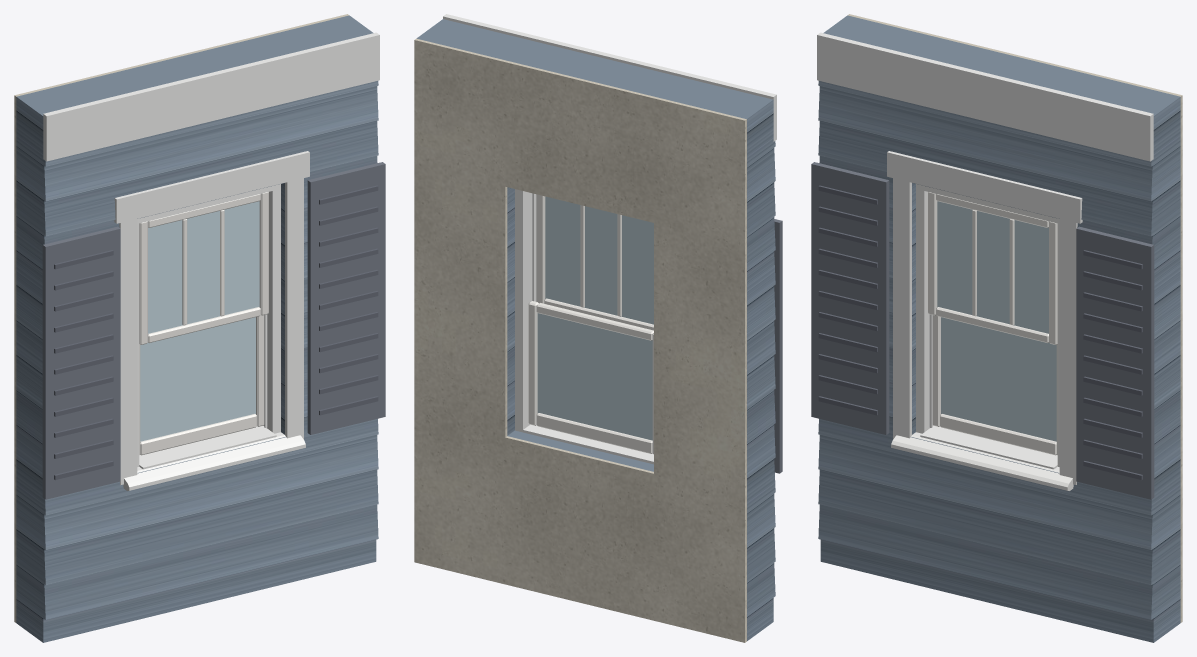
File: wall_siding_upper_window.glb
3 views of the same model, side by side, from view 1: azimuth 30°, elevation 25°; view 2: azimuth 150°, elevation 25°; view 3: azimuth 330°, elevation 25° (orthographic).
Parts seen in each view (by area): view 1: wall_siding_upper_window_siding, wall_siding_upper_window_trim, wall_siding_upper_window_shutter, wall_siding_upper_window_glass, wall_siding_upper_window_sash, wall_siding_upper_window_shutter_dark, wall_siding_upper_window_frame, wall_siding_upper_window_plaster; view 2: wall_siding_upper_window_plaster, wall_siding_upper_window_siding, wall_siding_upper_window_glass, wall_siding_upper_window_sash, wall_siding_upper_window_frame, wall_siding_upper_window_trim, wall_siding_upper_window_shutter; view 3: wall_siding_upper_window_siding, wall_siding_upper_window_trim, wall_siding_upper_window_shutter, wall_siding_upper_window_glass, wall_siding_upper_window_sash, wall_siding_upper_window_shutter_dark, wall_siding_upper_window_frame, wall_siding_upper_window_plaster.
Boxes of the visible parts, bbox=[...] form: wall_siding_upper_window_siding: bbox=[16, 15, 378, 642]; wall_siding_upper_window_trim: bbox=[43, 32, 379, 490]; wall_siding_upper_window_shutter: bbox=[42, 162, 385, 499]; wall_siding_upper_window_glass: bbox=[140, 201, 259, 441]; wall_siding_upper_window_sash: bbox=[139, 192, 268, 455]; wall_siding_upper_window_shutter_dark: bbox=[54, 185, 378, 479]; wall_siding_upper_window_frame: bbox=[137, 184, 280, 466]; wall_siding_upper_window_plaster: bbox=[14, 14, 349, 622]; wall_siding_upper_window_plaster: bbox=[414, 38, 746, 642]; wall_siding_upper_window_siding: bbox=[416, 19, 775, 640]; wall_siding_upper_window_glass: bbox=[537, 196, 653, 440]; wall_siding_upper_window_sash: bbox=[528, 194, 653, 454]; wall_siding_upper_window_frame: bbox=[515, 189, 536, 432]; wall_siding_upper_window_trim: bbox=[443, 14, 776, 464]; wall_siding_upper_window_shutter: bbox=[774, 219, 782, 473]; wall_siding_upper_window_siding: bbox=[818, 15, 1180, 642]; wall_siding_upper_window_trim: bbox=[817, 32, 1153, 490]; wall_siding_upper_window_shutter: bbox=[811, 162, 1154, 499]; wall_siding_upper_window_glass: bbox=[937, 201, 1056, 441]; wall_siding_upper_window_sash: bbox=[928, 192, 1057, 455]; wall_siding_upper_window_shutter_dark: bbox=[818, 185, 1142, 479]; wall_siding_upper_window_frame: bbox=[916, 184, 1059, 466]; wall_siding_upper_window_plaster: bbox=[847, 14, 1182, 622].
Bounding box in the file's own units: 2.04 × 3.04 × 0.38.
8 materials, 2 textured.
